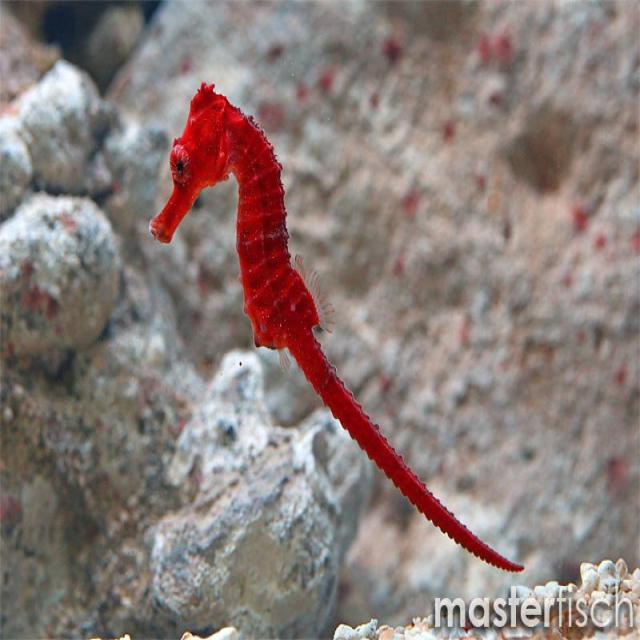seahorse: (150, 83, 522, 572)
